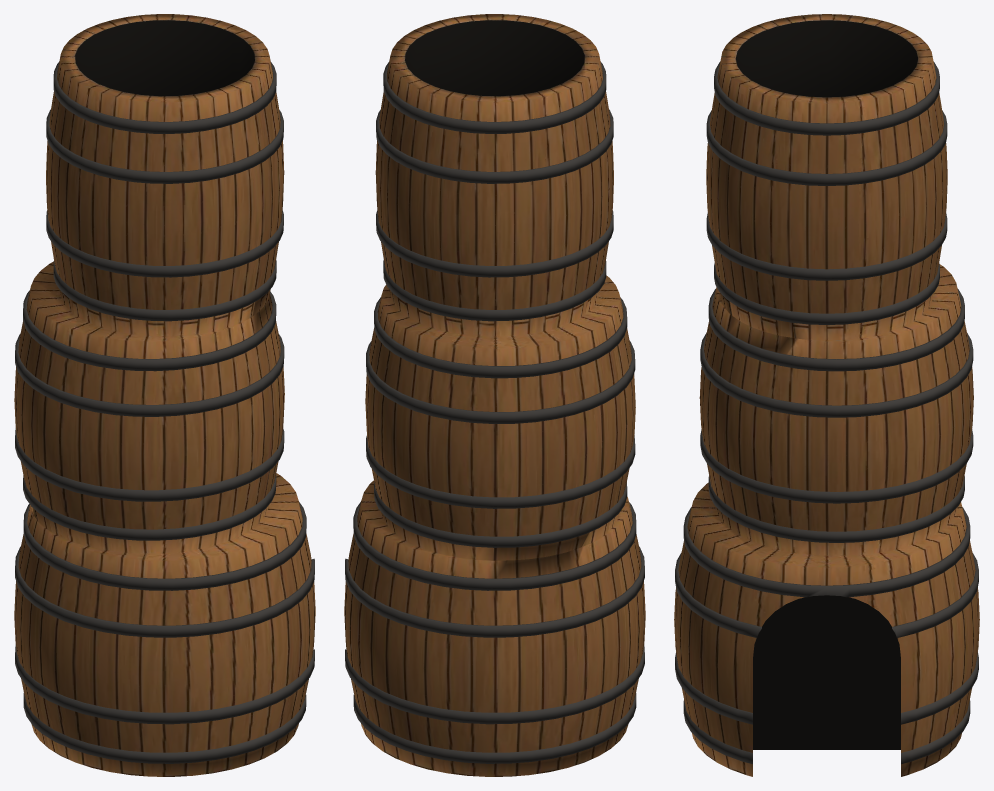
The model's file is barrel-stack.glb.
3 renders of one model, left to right at view 1: azimuth 30°, elevation 25°; view 2: azimuth 150°, elevation 25°; view 3: azimuth 270°, elevation 25°, orthographic.
Visible parts, largest first — view 1: barrels, hoops; view 2: barrels, hoops; view 3: barrels, hoops.
Boxes of the visible parts, <box> form: barrels: <box>14,14,315,776</box>; hoops: <box>15,62,314,763</box>; barrels: <box>344,14,645,776</box>; hoops: <box>345,62,644,763</box>; barrels: <box>674,14,979,776</box>; hoops: <box>675,62,978,764</box>.
Size of the model in its own units: 6.01 by 15 by 6.2.
4 materials, 1 textured.
